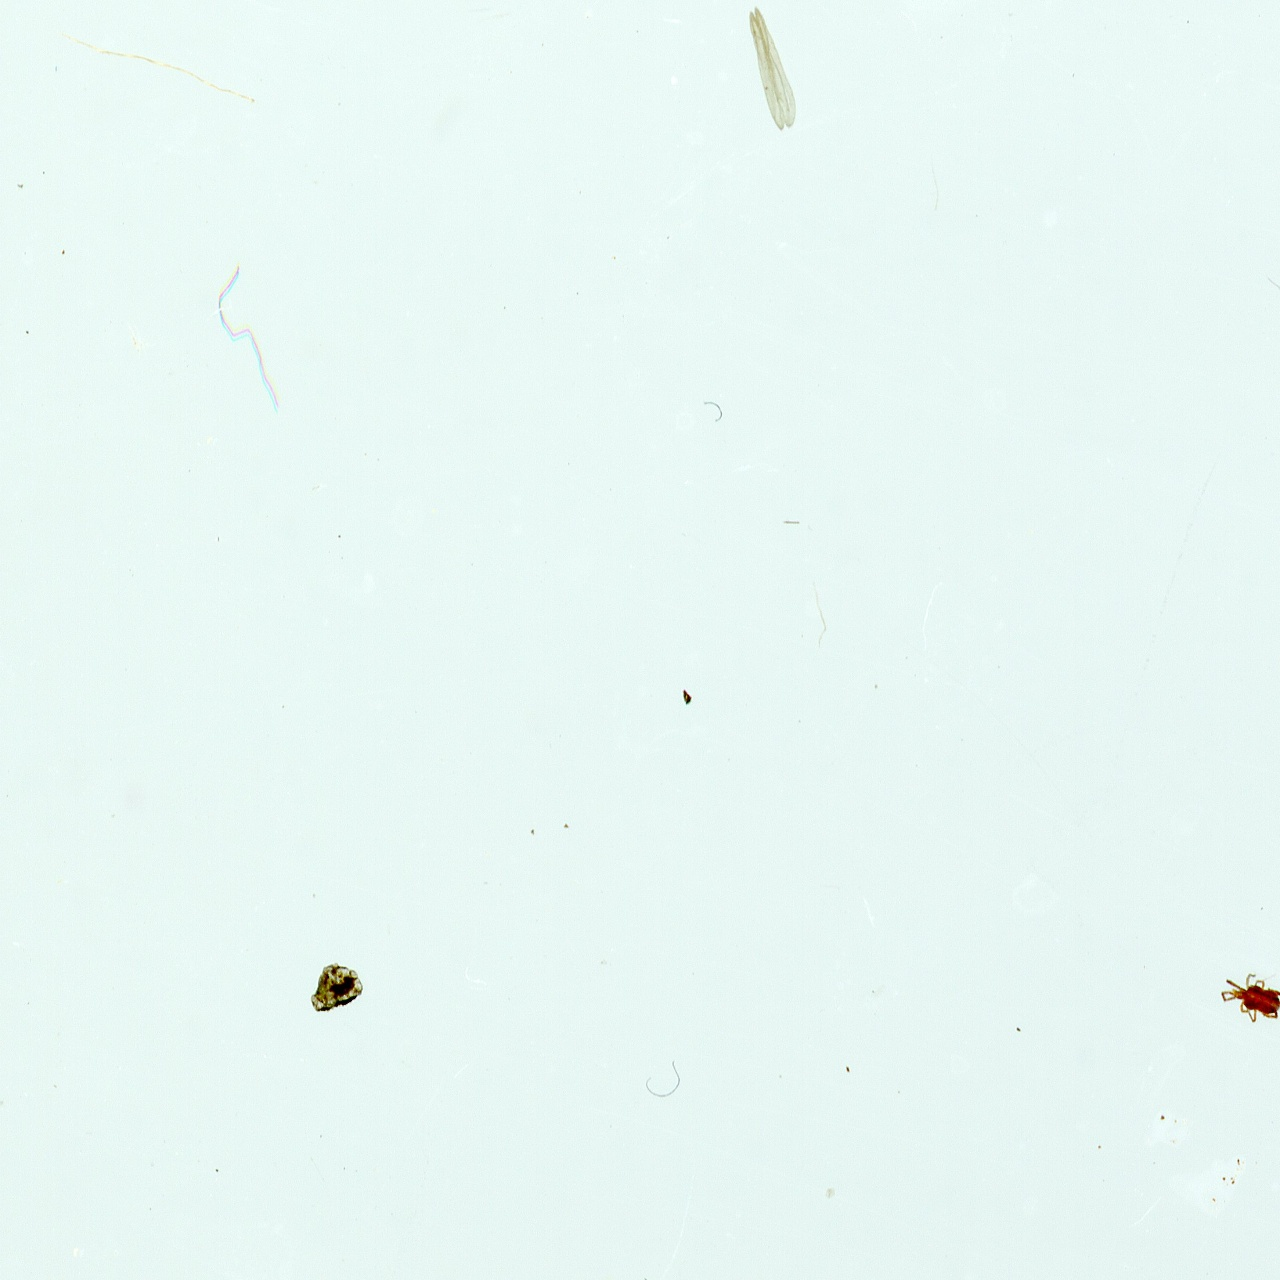arthropod: (1214, 971, 1280, 1027)
